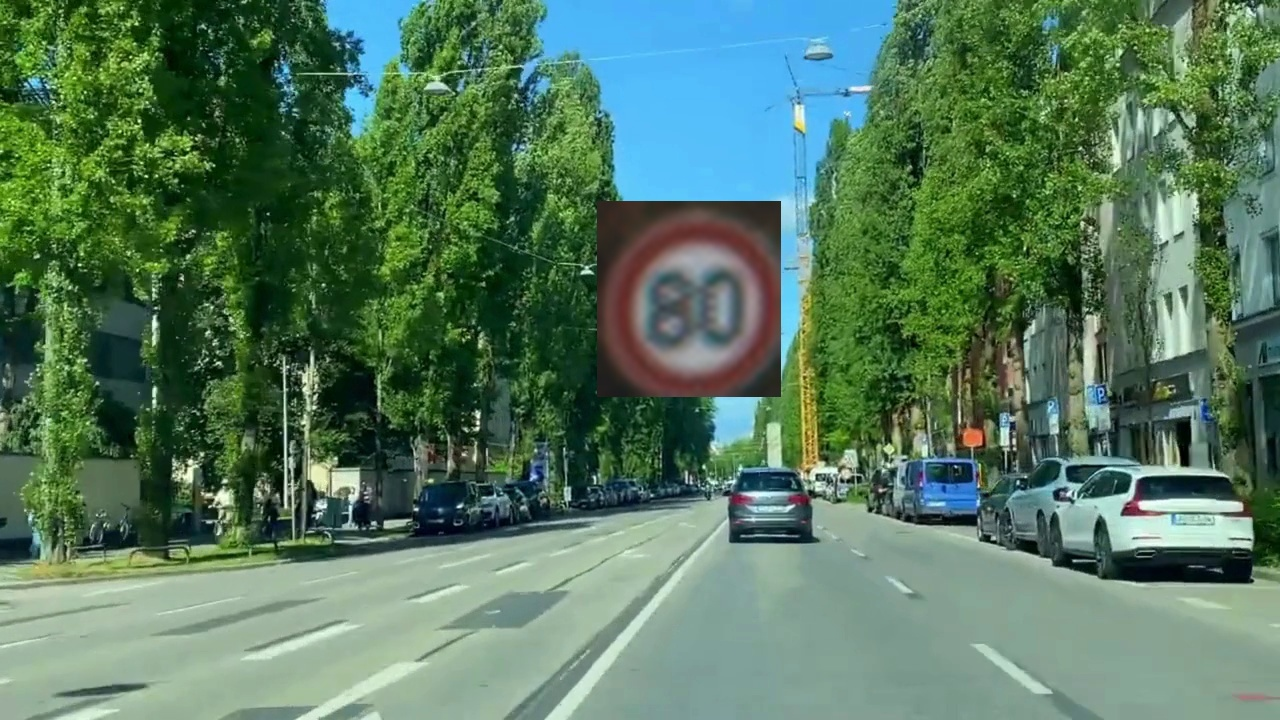Speed 80: (597, 201, 781, 397)
